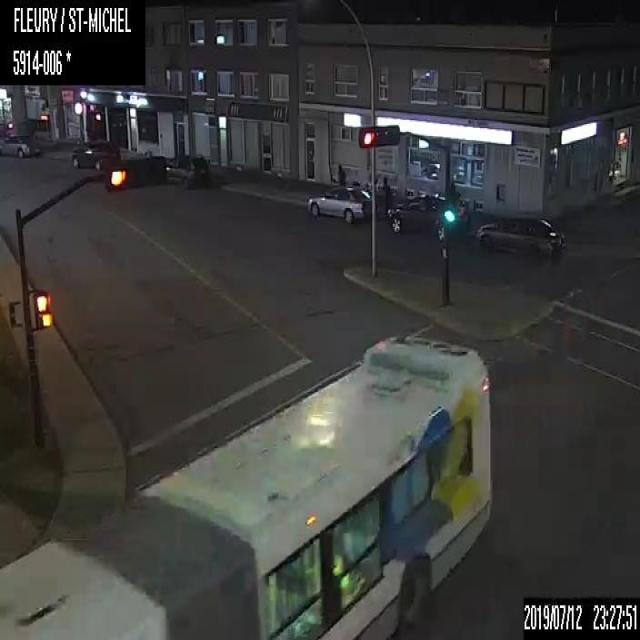bus: (0, 333, 490, 639)
pedestrian: (338, 163, 347, 184)
vehicle: (478, 214, 568, 258), (386, 189, 470, 235), (304, 183, 371, 224), (165, 152, 212, 185), (70, 137, 120, 168), (0, 132, 43, 157)
